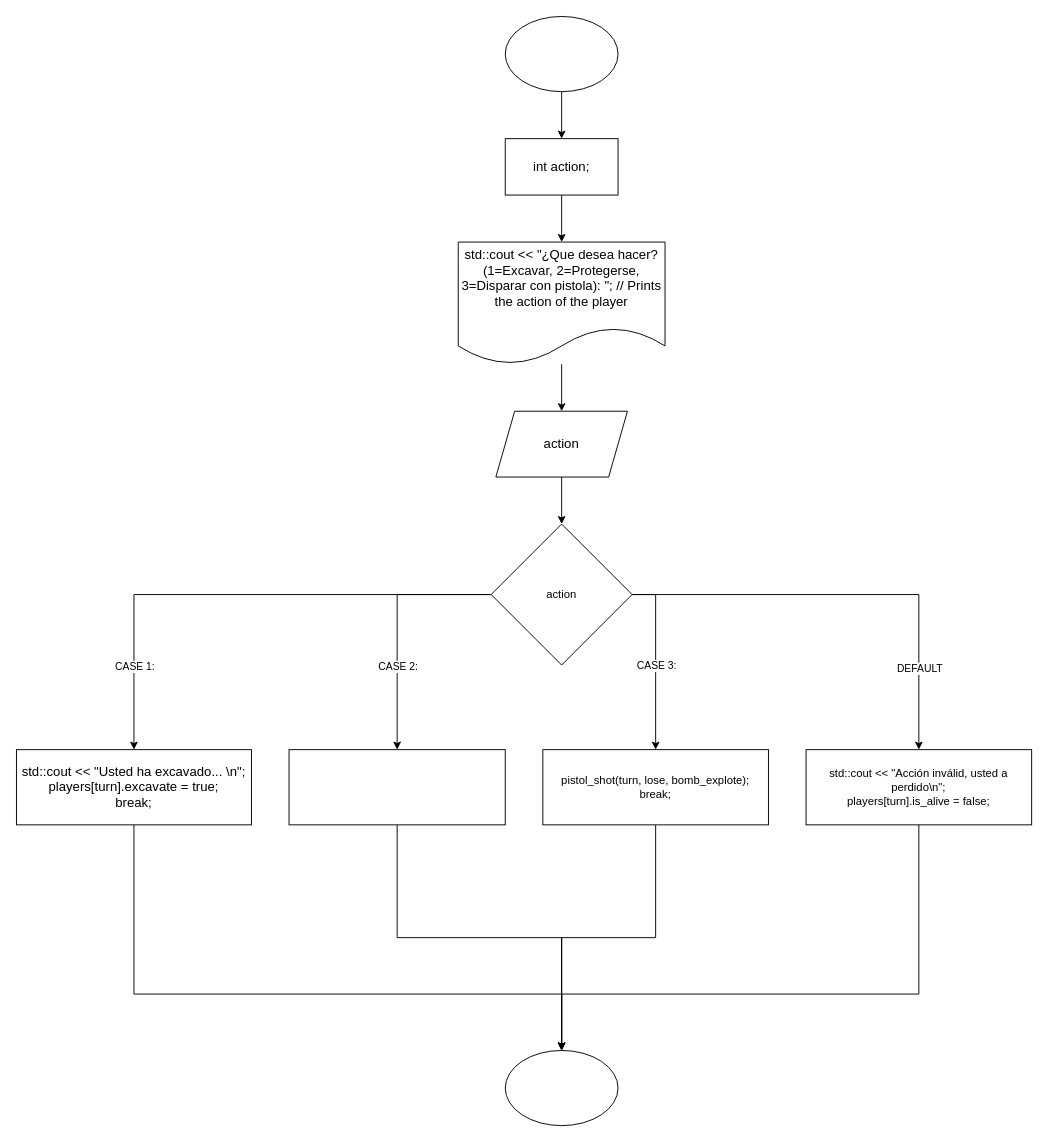
The diagram is 1048 pixels wide and 1142 high, and some of its shapes have lost their labels. Each missing label, with the centre of its shape:
"Fin" goes at (x=561, y=1088).
"Inicio" goes at (x=561, y=54).
"shield_action_protection(turn, lose, bomb_explote); break;" goes at (x=396, y=787).
